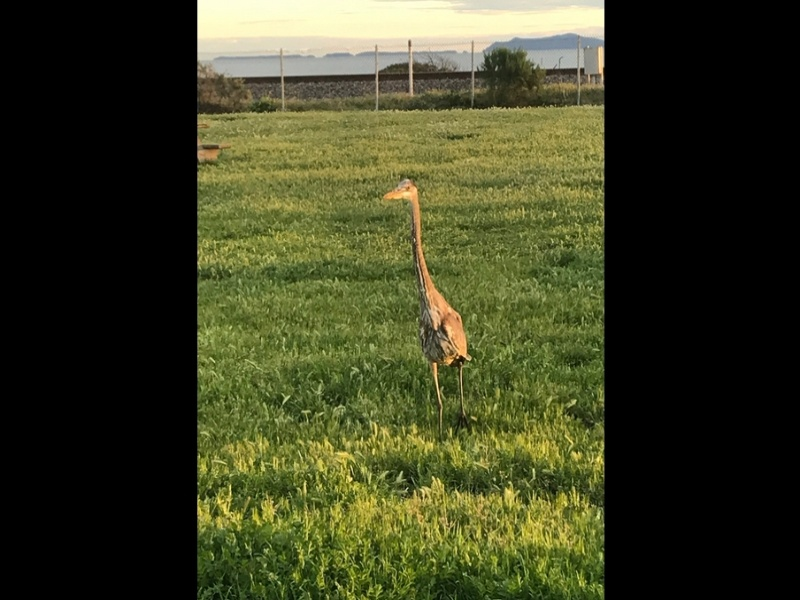heron: (377, 174, 479, 441)
